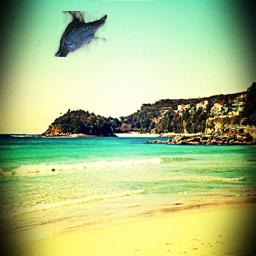Crow: (55, 11, 108, 57)
